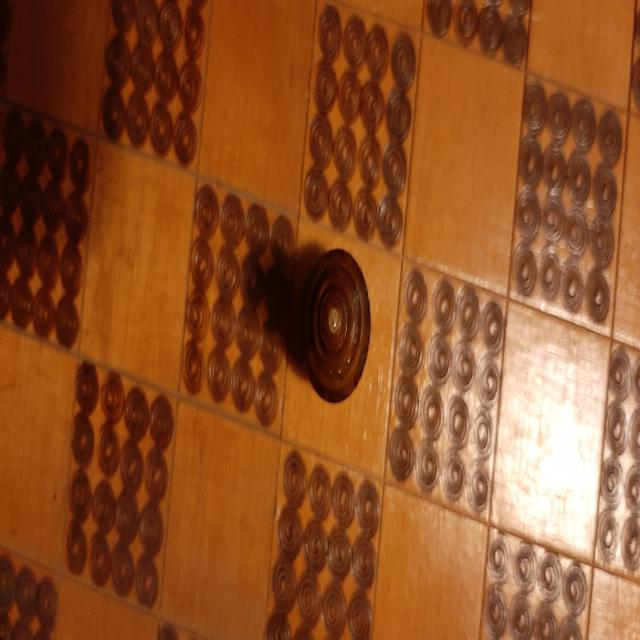black-queen: (303, 248, 371, 403)
